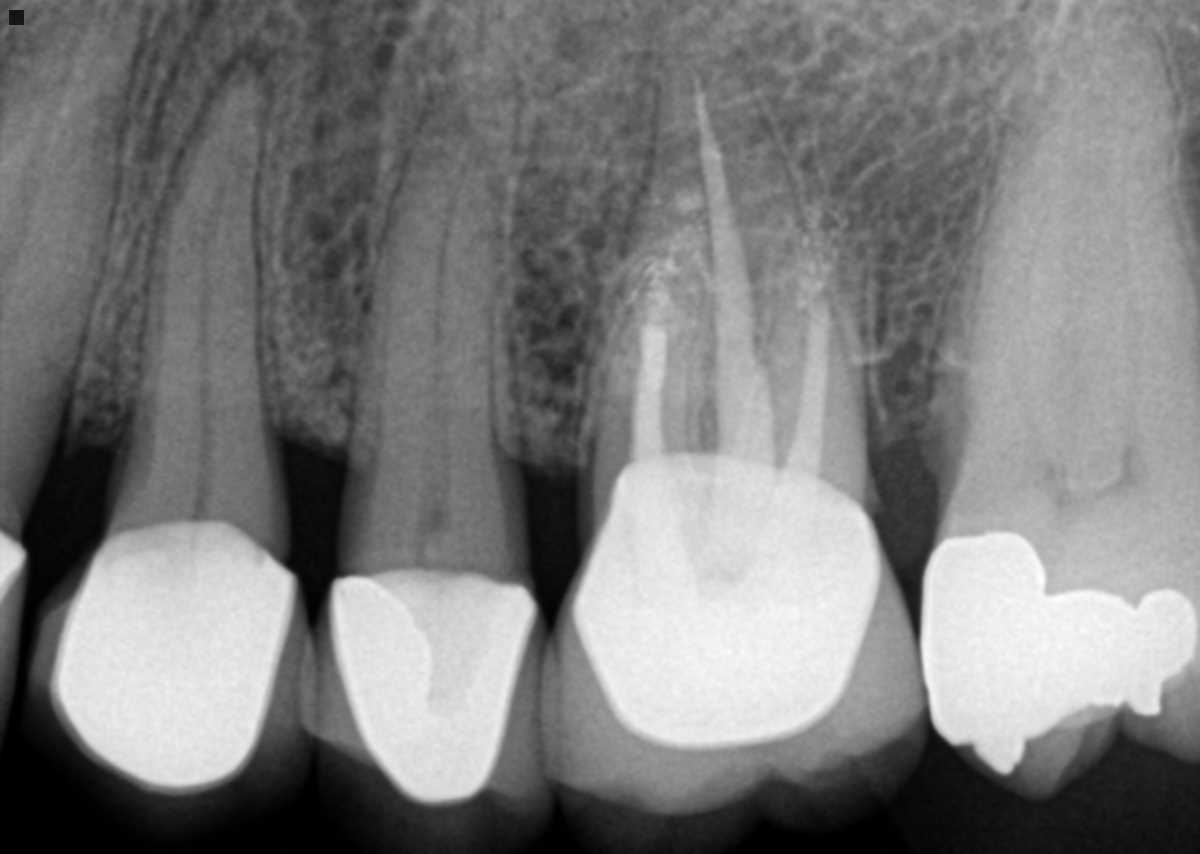Apical Lesion: (208, 36, 284, 112)
Distal Root: (737, 225, 870, 511)
Main Canal: (196, 127, 243, 431), (428, 149, 471, 458)
Main Root: (347, 33, 521, 458), (0, 0, 150, 434), (122, 69, 272, 436)
Mesial Canal: (1006, 236, 1056, 467)
Mesial Root: (922, 155, 1088, 494), (592, 252, 704, 514)
Palatal Root: (592, 36, 870, 502), (966, 11, 1200, 498)
Root Canal Filling: (693, 68, 779, 474), (784, 301, 833, 480), (628, 326, 669, 464)
